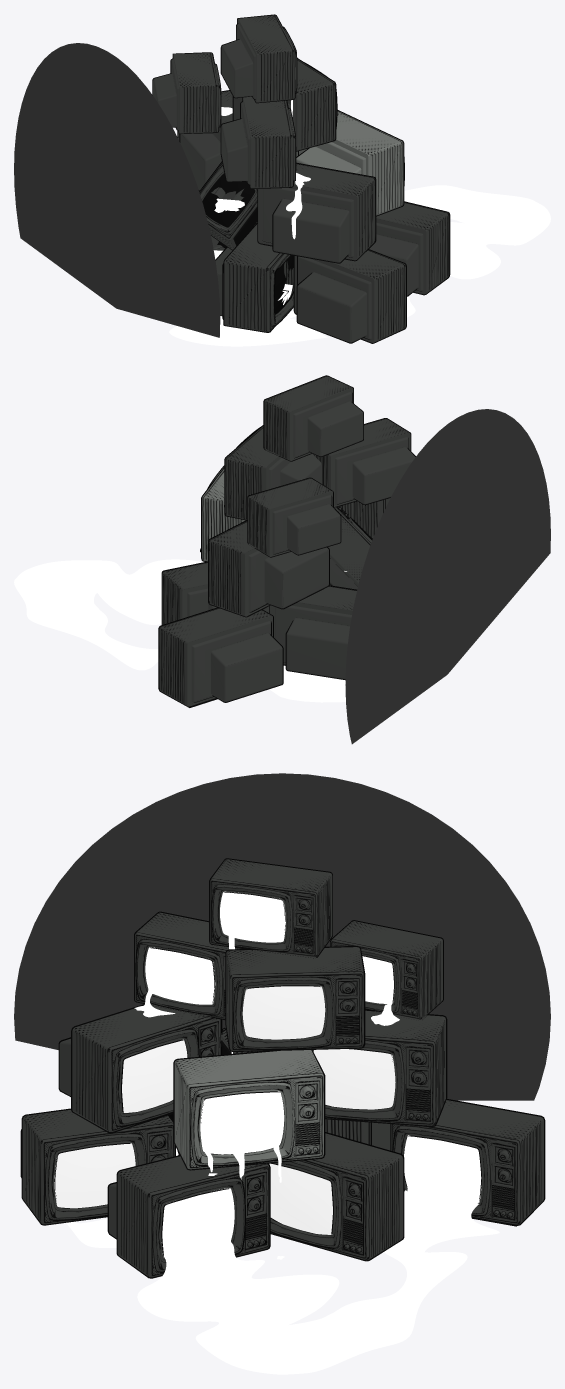
File: tv-pile.gltf
The picture shows the model from 3 angles, top to bottom: view 1: azimuth 30°, elevation 25°; view 2: azimuth 150°, elevation 25°; view 3: azimuth 270°, elevation 25°; orthographic projection. The views are drawn at different scales.
Visible parts, largest first — view 1: small-polka-dot-seamless-pattern-background-retro-vintage-ve, OldTV_03_Low02_OldTV_0.012_64, OldTV_03_Low02_OldTV_0.004_36, OldTV_03_Low02_OldTV_0.020_77, OldTV_03_Low02_OldTV_0.017_74, OldTV_03_Low02_OldTV_0.024_82, OldTV_03_Low02_OldTV_0.010_62, OldTV_03_Low02_OldTV_0.002_21, OldTV_03_Low02_OldTV_0.022_80, OldTV_02_Low_OldTV_0.046_96, OldTV_03_Low02_OldTV_0.018_75, OldTV_02_Low_OldTV_0.045_95 (+9 smaller); view 2: small-polka-dot-seamless-pattern-background-retro-vintage-ve, OldTV_03_Low02_OldTV_0.006_52, OldTV_03_Low02_OldTV_0.008_59, OldTV_03_Low02_OldTV_0.024_82, OldTV_03_Low02_OldTV_0.022_80, OldTV_03_Low02_OldTV_0.014_67, OldTV_03_Low02_OldTV_0.020_77, OldTV_02_Low_OldTV_0.045_95, OldTV_02_Low_OldTV_0.046_96, OldTV_03_Low02_OldTV_0.018_75, OldTV_03_Low02_OldTV_0_5, OldTV_03_Low02_OldTV_0.016_97 (+5 smaller); view 3: small-polka-dot-seamless-pattern-background-retro-vintage-ve, OldTV_02_Low_OldTV_0.046_96, OldTV_02_Low_OldTV_0.045_95, OldTV_03_Low02_OldTV_0.010_62, OldTV_03_Low02_OldTV_0.012_64, OldTV_03_Low02_OldTV_0.002_21, OldTV_03_Low02_OldTV_0.018_75, OldTV_03_Low02_OldTV_0.006_52, OldTV_03_Low02_OldTV_0_5, OldTV_03_Low02_OldTV_0.004_36, OldTV_03_Low02_OldTV_0.024_82, OldTV_03_Low02_OldTV_0.008_59 (+24 smaller).
Part boxes in pixels (x1,y1,x2,y2): small-polka-dot-seamless-pattern-background-retro-vintage-ve: (14,43,220,337); OldTV_03_Low02_OldTV_0.012_64: (258,163,375,262); OldTV_03_Low02_OldTV_0.004_36: (294,250,405,342); OldTV_03_Low02_OldTV_0.020_77: (221,96,295,188); OldTV_03_Low02_OldTV_0.017_74: (215,223,293,332); OldTV_03_Low02_OldTV_0.024_82: (221,15,296,102); OldTV_03_Low02_OldTV_0.010_62: (296,111,403,215); OldTV_03_Low02_OldTV_0.002_21: (369,202,449,295); OldTV_03_Low02_OldTV_0.022_80: (153,53,220,133); OldTV_02_Low_OldTV_0.046_96: (450,202,550,279); OldTV_03_Low02_OldTV_0.018_75: (233,59,336,150); OldTV_02_Low_OldTV_0.045_95: (404,185,544,227); small-polka-dot-seamless-pattern-background-retro-vintage-ve: (345,409,550,744); OldTV_03_Low02_OldTV_0.006_52: (159,608,282,706); OldTV_03_Low02_OldTV_0.008_59: (209,521,328,616); OldTV_03_Low02_OldTV_0.024_82: (264,376,363,460); OldTV_03_Low02_OldTV_0.022_80: (248,478,340,556); OldTV_03_Low02_OldTV_0.014_67: (269,586,356,679); OldTV_03_Low02_OldTV_0.020_77: (312,418,415,506); OldTV_02_Low_OldTV_0.045_95: (14,563,158,670); OldTV_02_Low_OldTV_0.046_96: (17,559,202,624); OldTV_03_Low02_OldTV_0.018_75: (225,426,321,519); OldTV_03_Low02_OldTV_0_5: (162,562,268,624); OldTV_03_Low02_OldTV_0.016_97: (328,507,372,589); small-polka-dot-seamless-pattern-background-retro-vintage-ve: (14,773,550,1100); OldTV_02_Low_OldTV_0.046_96: (137,1188,339,1374); OldTV_02_Low_OldTV_0.045_95: (230,1135,499,1373); OldTV_03_Low02_OldTV_0.010_62: (174,1050,323,1169); OldTV_03_Low02_OldTV_0.012_64: (59,1004,220,1131); OldTV_03_Low02_OldTV_0.002_21: (109,1156,269,1277); OldTV_03_Low02_OldTV_0.018_75: (226,947,363,1050); OldTV_03_Low02_OldTV_0.006_52: (391,1100,543,1224); OldTV_03_Low02_OldTV_0_5: (270,1133,403,1260); OldTV_03_Low02_OldTV_0.004_36: (22,1110,174,1224); OldTV_03_Low02_OldTV_0.024_82: (210,859,332,957); OldTV_03_Low02_OldTV_0.008_59: (312,1010,445,1125).
Size of the model in its own units: 24.46 by 13.95 by 20.45.
Materials: 7 (2 with a texture image).
